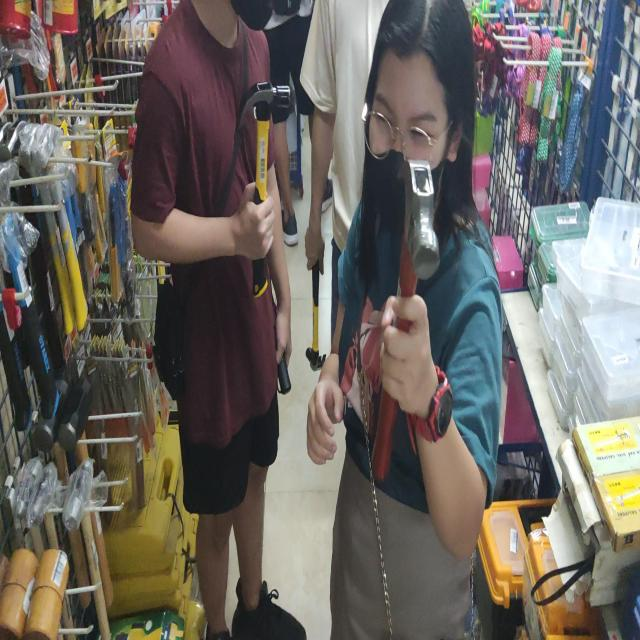hammer: (369, 160, 439, 481), (238, 82, 290, 300), (306, 260, 326, 370)
